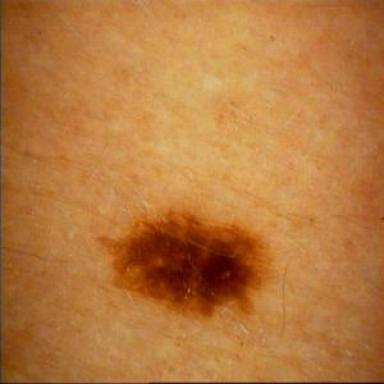Melanoma: (101, 209, 270, 317)
